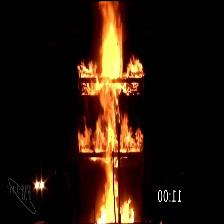fire: (72, 4, 156, 223)
